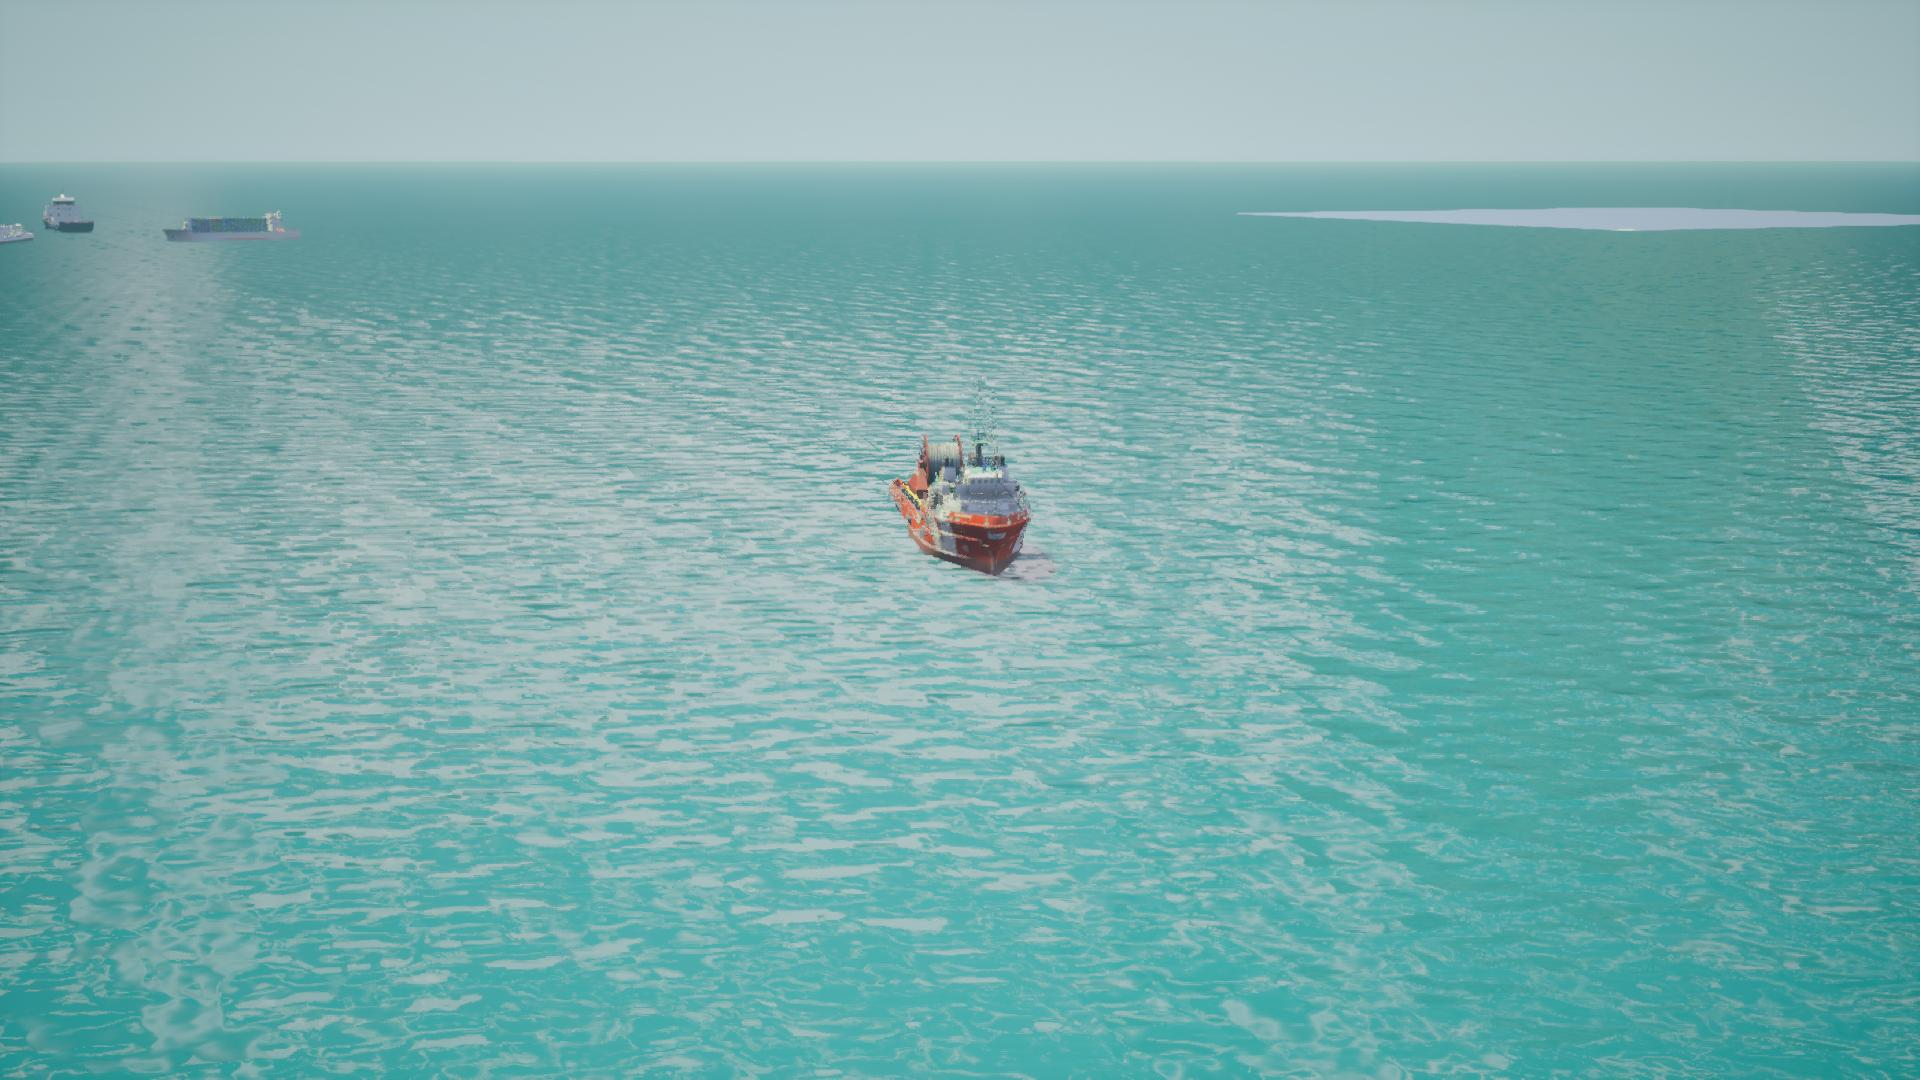Tug Boat: (893, 438, 1031, 575)
